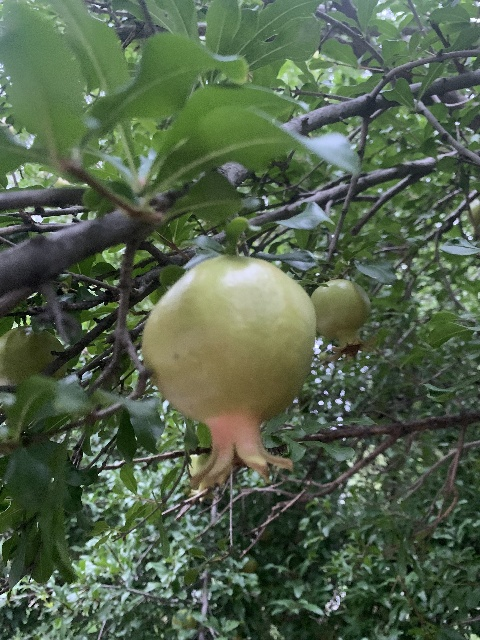mid-growth: (140, 254, 315, 494), (310, 279, 379, 363), (0, 324, 66, 385)
